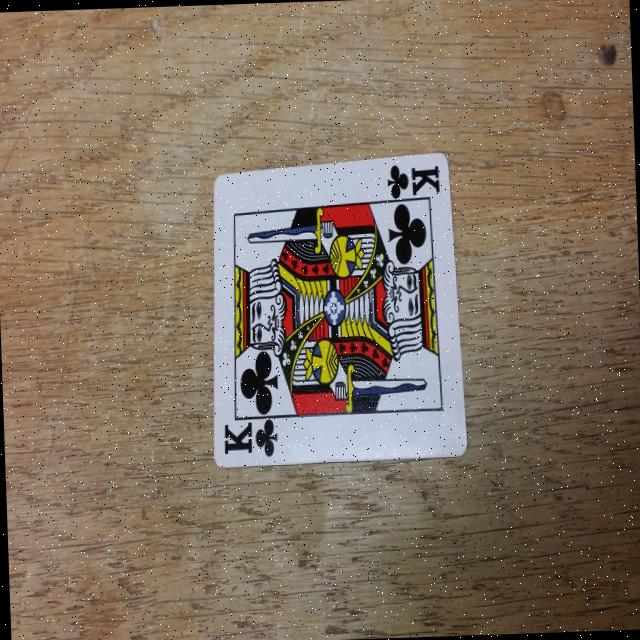Kc: (382, 154, 448, 212), (216, 408, 282, 464)
